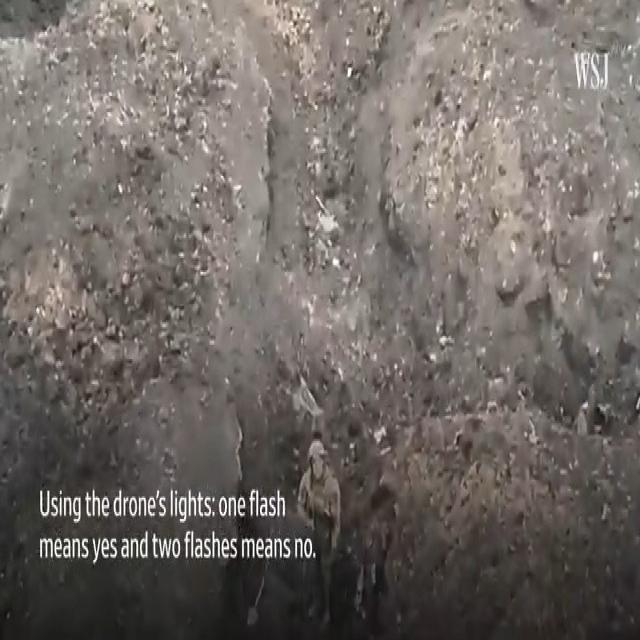MIL_Pax: (298, 440, 340, 623)
